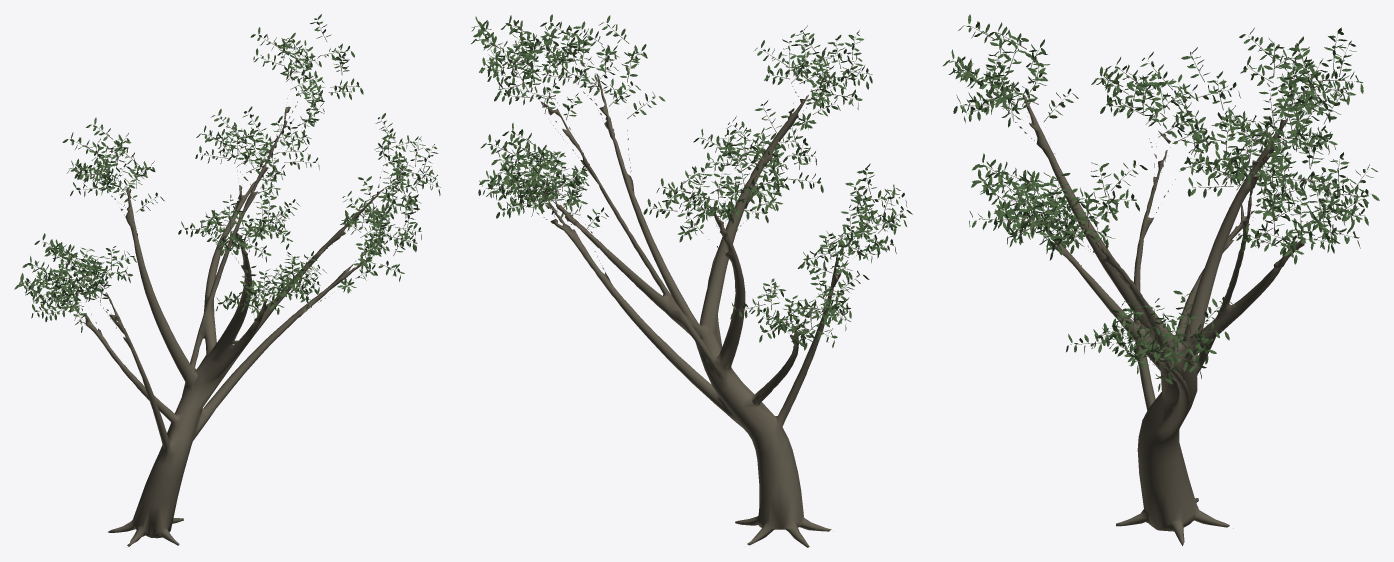
The model's file is CheneVert_2_Niveau0.fbx.
3 renders of one model, left to right at view 1: azimuth 30°, elevation 25°; view 2: azimuth 150°, elevation 25°; view 3: azimuth 270°, elevation 25°, orthographic. The views are drawn at different scales.
Parts seen in each view (by area): view 1: CheneVert_2_Niveau0_Jeu; view 2: CheneVert_2_Niveau0_Jeu; view 3: CheneVert_2_Niveau0_Jeu.
Boxes of the visible parts, x1,y1,x2,y2 form: CheneVert_2_Niveau0_Jeu: [14, 14, 440, 546]; CheneVert_2_Niveau0_Jeu: [471, 14, 912, 547]; CheneVert_2_Niveau0_Jeu: [942, 14, 1379, 545].
Bounding box in the file's own units: 436 × 491 × 335.
